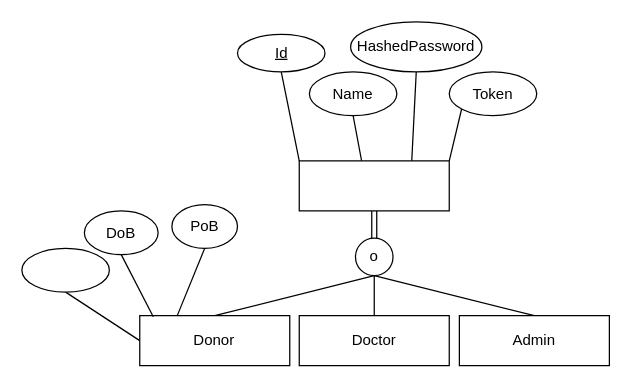
Some shapes in this 631 by 388 pixel diagram are drawn without their labels. Here are the shapes that lost their labels. From the top down, the centre of each, then its label:
At point 373,185: "User".
At point 65,269: "isVerified".
